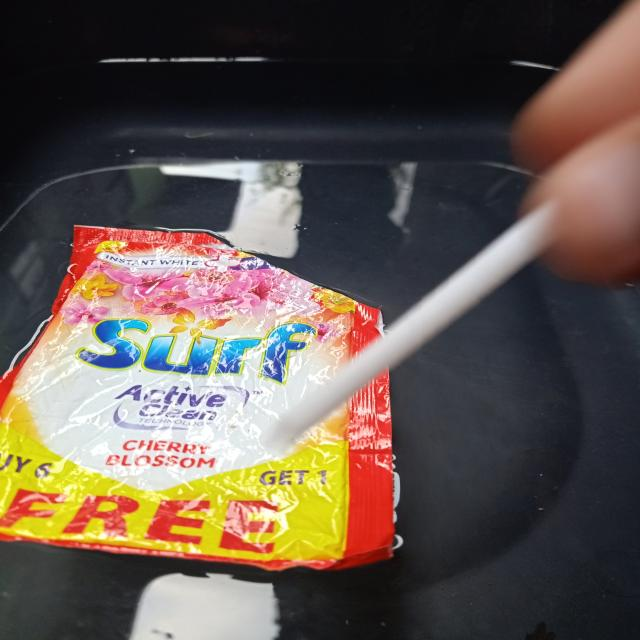Plastic Wrapper: (2, 223, 396, 580)
